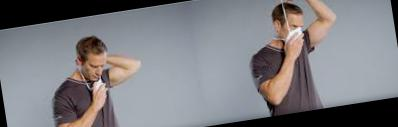mask_weared_incorrect: (86, 55, 109, 87)
with_mask: (283, 20, 306, 44)
